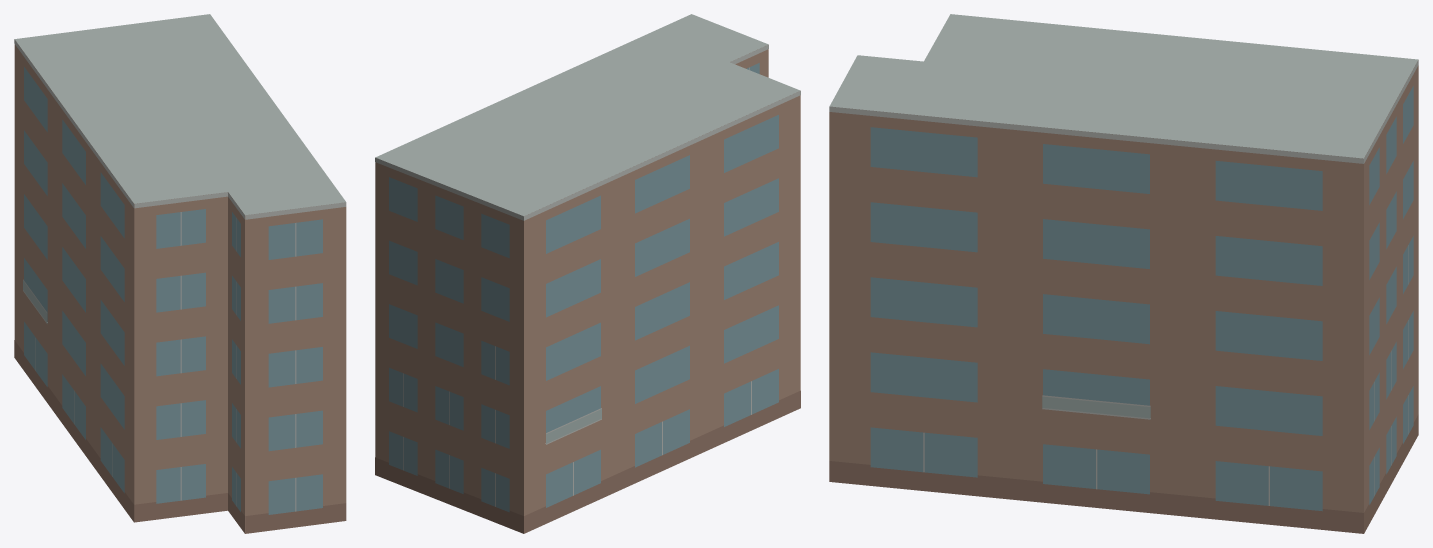
Rendered from survey-upis-32899596.glb.
3 views of the same model, side by side, from view 1: azimuth 30°, elevation 25°; view 2: azimuth 150°, elevation 25°; view 3: azimuth 270°, elevation 25° (orthographic). The views are drawn at different scales.
Visible parts, largest first — view 1: survey-upis-32899596.tmp; view 2: survey-upis-32899596.tmp; view 3: survey-upis-32899596.tmp.
Part boxes in pixels (x1,y1,x2,y2): survey-upis-32899596.tmp: (14, 14, 346, 533); survey-upis-32899596.tmp: (375, 14, 800, 533); survey-upis-32899596.tmp: (829, 14, 1418, 533).
Bounding box in the file's own units: 14.05 × 17 × 24.19.
